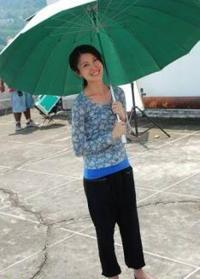person: (69, 44, 154, 279)
